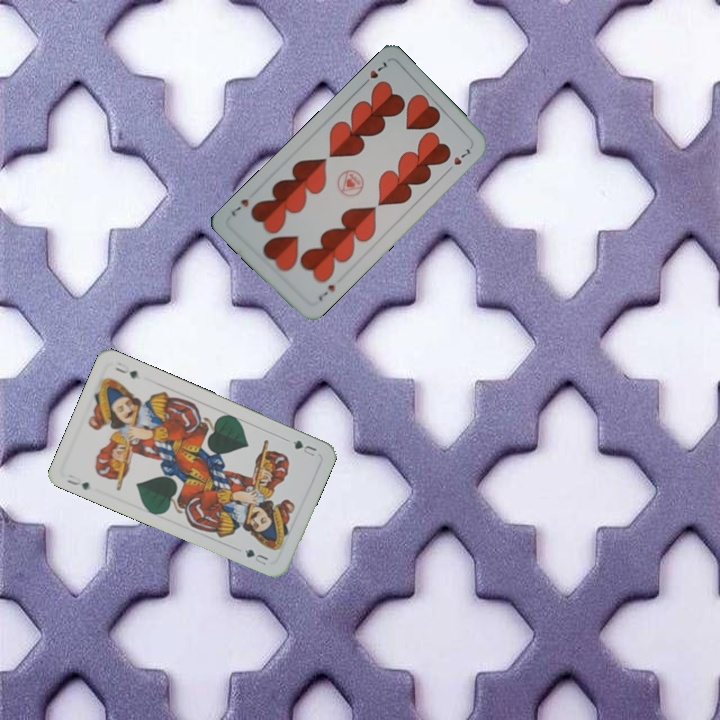GU: (289, 436, 319, 460), (62, 475, 92, 492)
H7: (358, 57, 389, 89), (314, 280, 337, 303)
